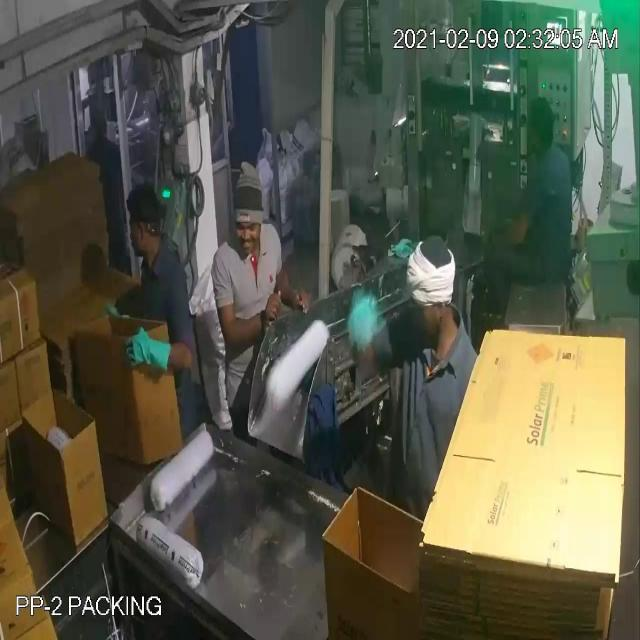Gloves: (46, 54, 511, 356)
